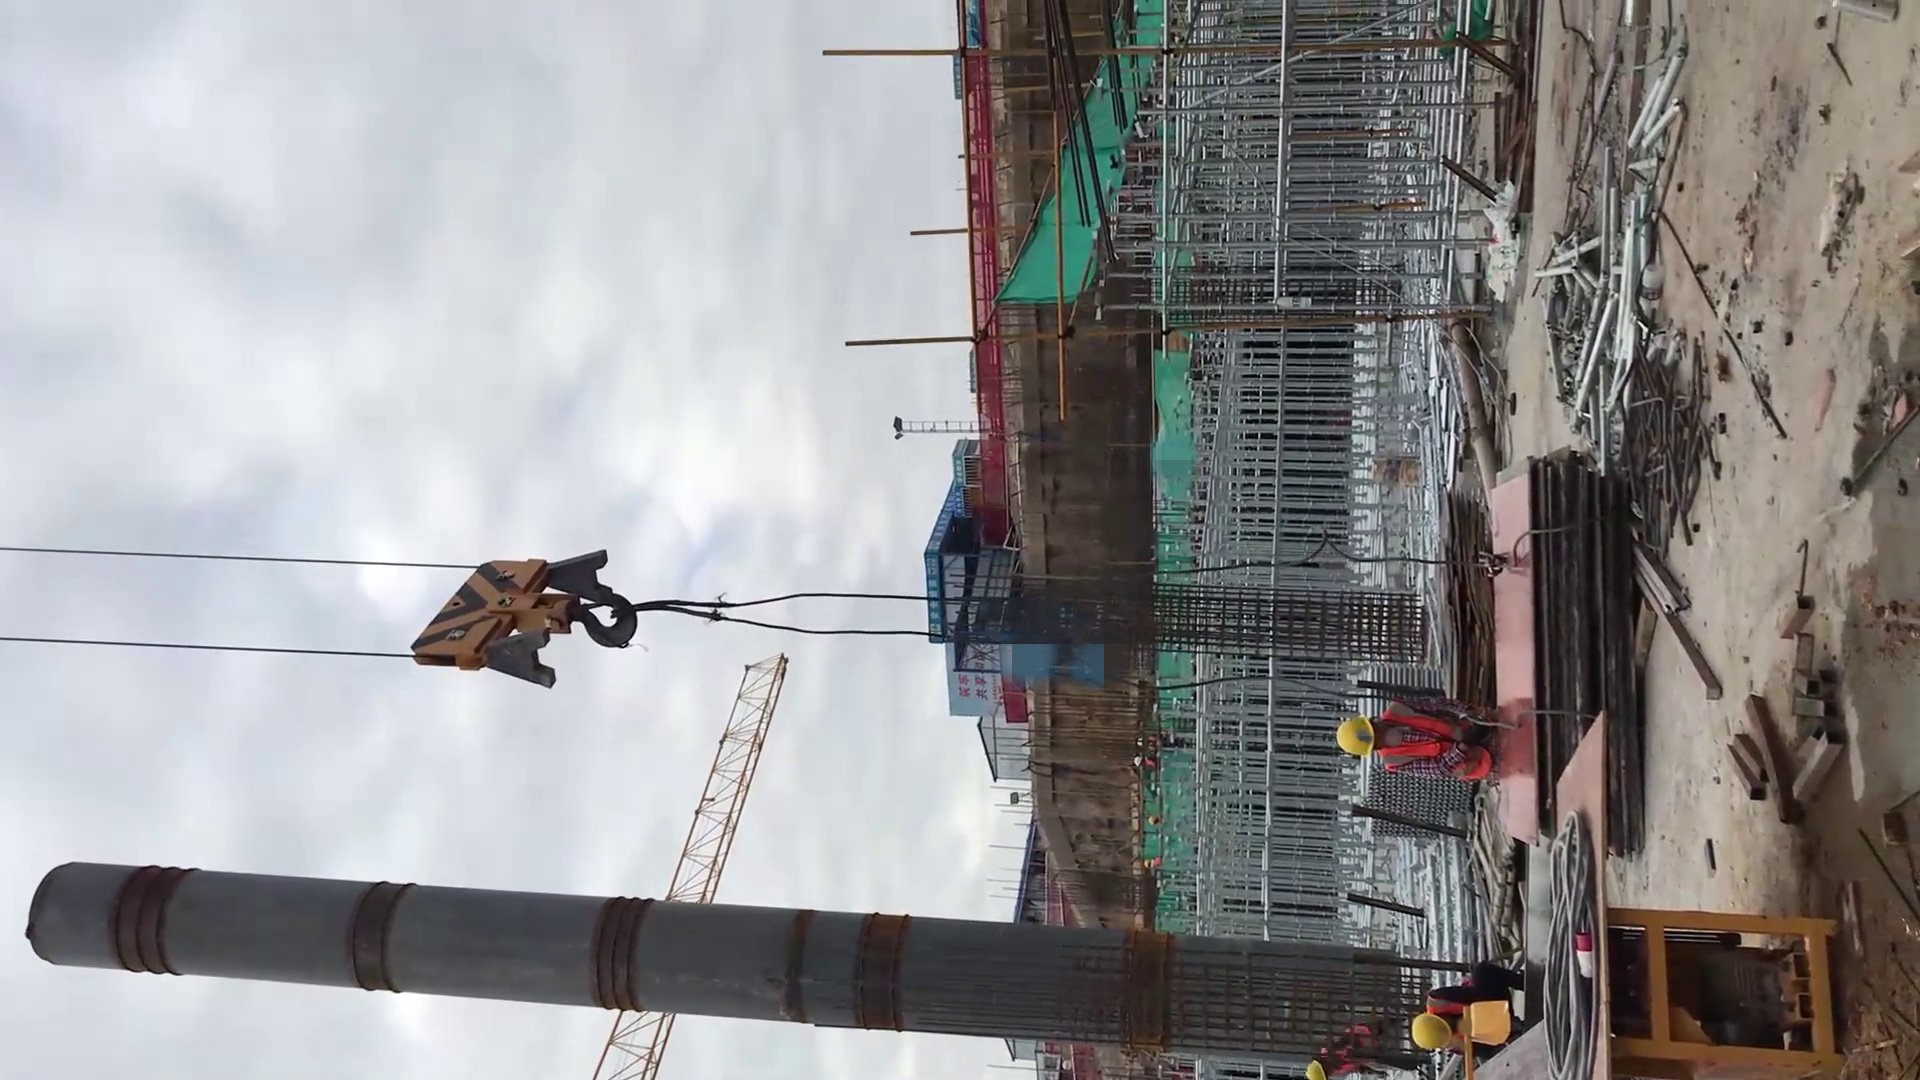board: (1494, 453, 1646, 858), (1434, 486, 1493, 706)
cutter: (1468, 711, 1843, 1080)
hook: (407, 544, 642, 688)
person: (1333, 698, 1497, 785), (1407, 960, 1527, 1053), (1301, 1013, 1413, 1080), (1334, 713, 1376, 760), (1409, 1011, 1454, 1052), (1303, 1060, 1325, 1080), (1133, 754, 1161, 767), (1132, 756, 1143, 766), (1148, 815, 1158, 826)
scaffold: (1358, 758, 1476, 840)
slogan: (920, 434, 970, 645), (951, 641, 995, 709)
vest: (1375, 699, 1494, 782), (1320, 1022, 1380, 1075), (1427, 991, 1466, 1056), (1143, 755, 1156, 768)
